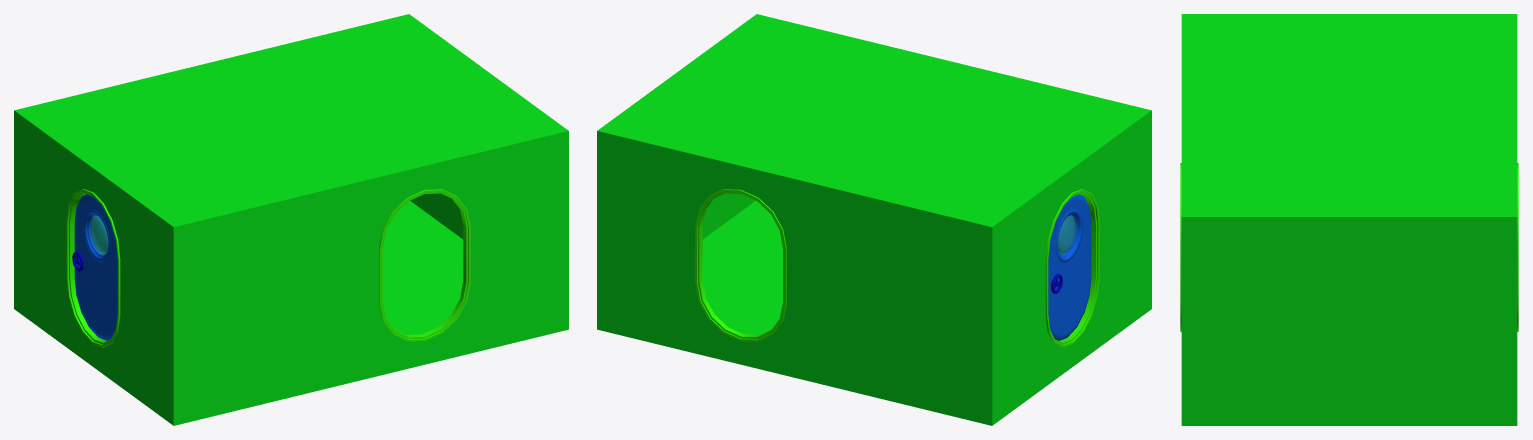
File: MiddleSection.fbx
3 renders of one model, left to right at view 1: azimuth 30°, elevation 25°; view 2: azimuth 150°, elevation 25°; view 3: azimuth 270°, elevation 25°, orthographic. The views are drawn at different scales.
Parts seen in each view (by area): view 1: MiddleHallway, EXITDOOR, DoorFrames; view 2: MiddleHallway, EXITDOOR, DoorFrames; view 3: MiddleHallway, DoorFrames.
Boxes of the visible parts, x1,y1,x2,y2 form: MiddleHallway: [14, 14, 568, 425]; EXITDOOR: [74, 194, 117, 340]; DoorFrames: [66, 189, 470, 347]; MiddleHallway: [597, 14, 1151, 425]; EXITDOOR: [1048, 194, 1091, 340]; DoorFrames: [695, 189, 1099, 347]; MiddleHallway: [1181, 14, 1517, 425]; DoorFrames: [1180, 163, 1518, 331].
Bounding box in the file's own units: 522 × 250 × 367.
